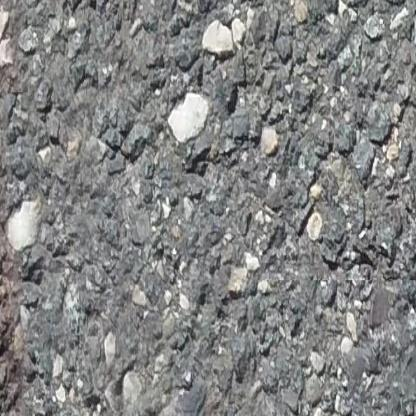Cracks: (0, 309, 36, 416)
